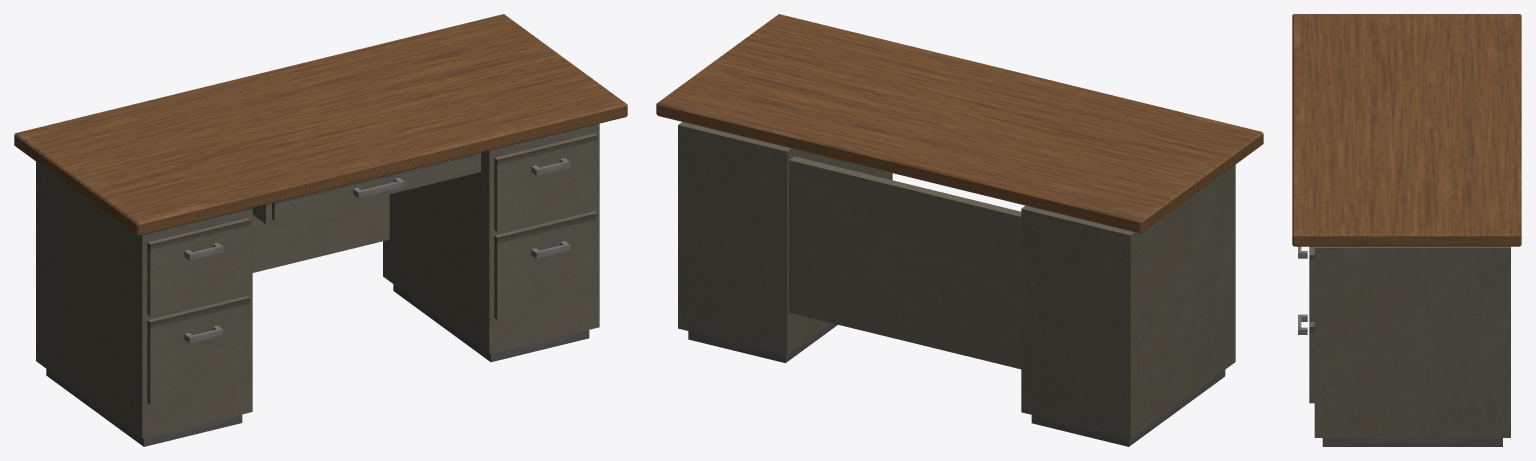
File: desk.glb
3 renders of one model, left to right at view 1: azimuth 30°, elevation 25°; view 2: azimuth 150°, elevation 25°; view 3: azimuth 270°, elevation 25°, orthographic. The views are drawn at different scales.
Visible parts, largest first — view 1: core_desk; view 2: core_desk; view 3: core_desk.
Boxes of the visible parts, x1,y1,x2,y2 form: core_desk: (14, 14, 627, 446); core_desk: (656, 14, 1263, 446); core_desk: (1292, 14, 1521, 446).
Bounding box in the file's own units: 1.6 × 0.75 × 0.7.
1 material, 1 textured.
